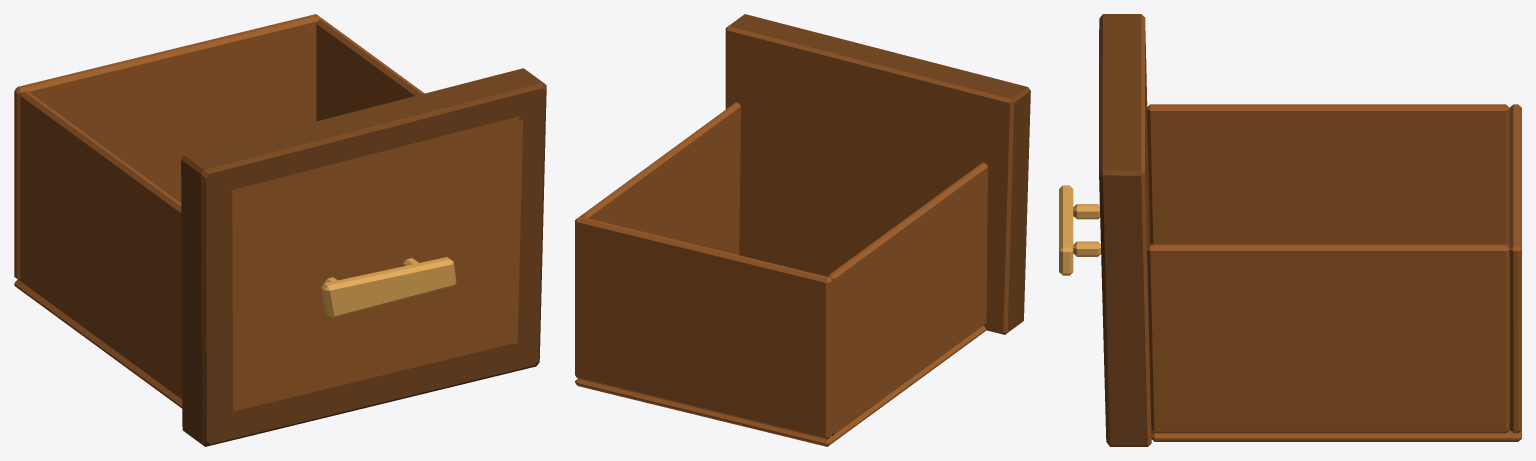
The model's file is File_cabinet_Box_4.fbx.
The picture shows the model from 3 angles, left to right: view 1: azimuth 30°, elevation 25°; view 2: azimuth 150°, elevation 25°; view 3: azimuth 270°, elevation 25°; orthographic projection. The views are drawn at different scales.
Parts seen in each view (by area): view 1: File_cabinet_Box_4; view 2: File_cabinet_Box_4; view 3: File_cabinet_Box_4.
Part boxes in pixels (x1,y1,x2,y2): File_cabinet_Box_4: (14, 14, 546, 446); File_cabinet_Box_4: (575, 14, 1030, 446); File_cabinet_Box_4: (1059, 14, 1521, 446).
Bounding box in the file's own units: 0.4399 × 0.3475 × 0.5242.
